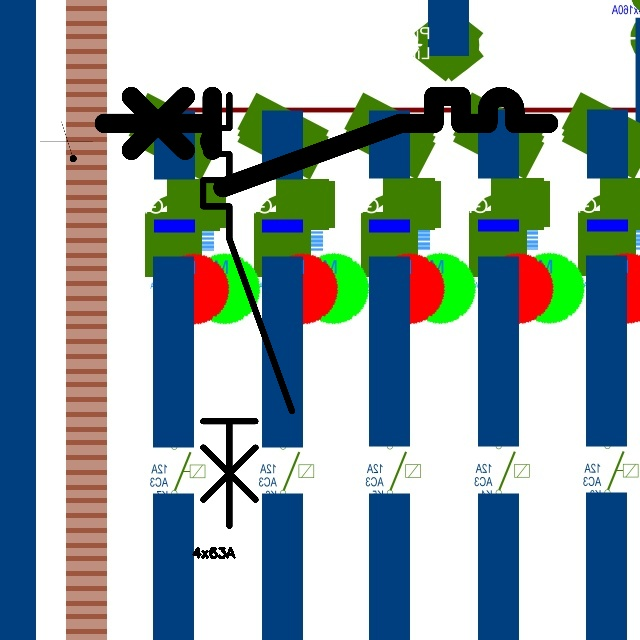interruptor_termomagnetico: (92, 85, 559, 199), (192, 84, 303, 537)
